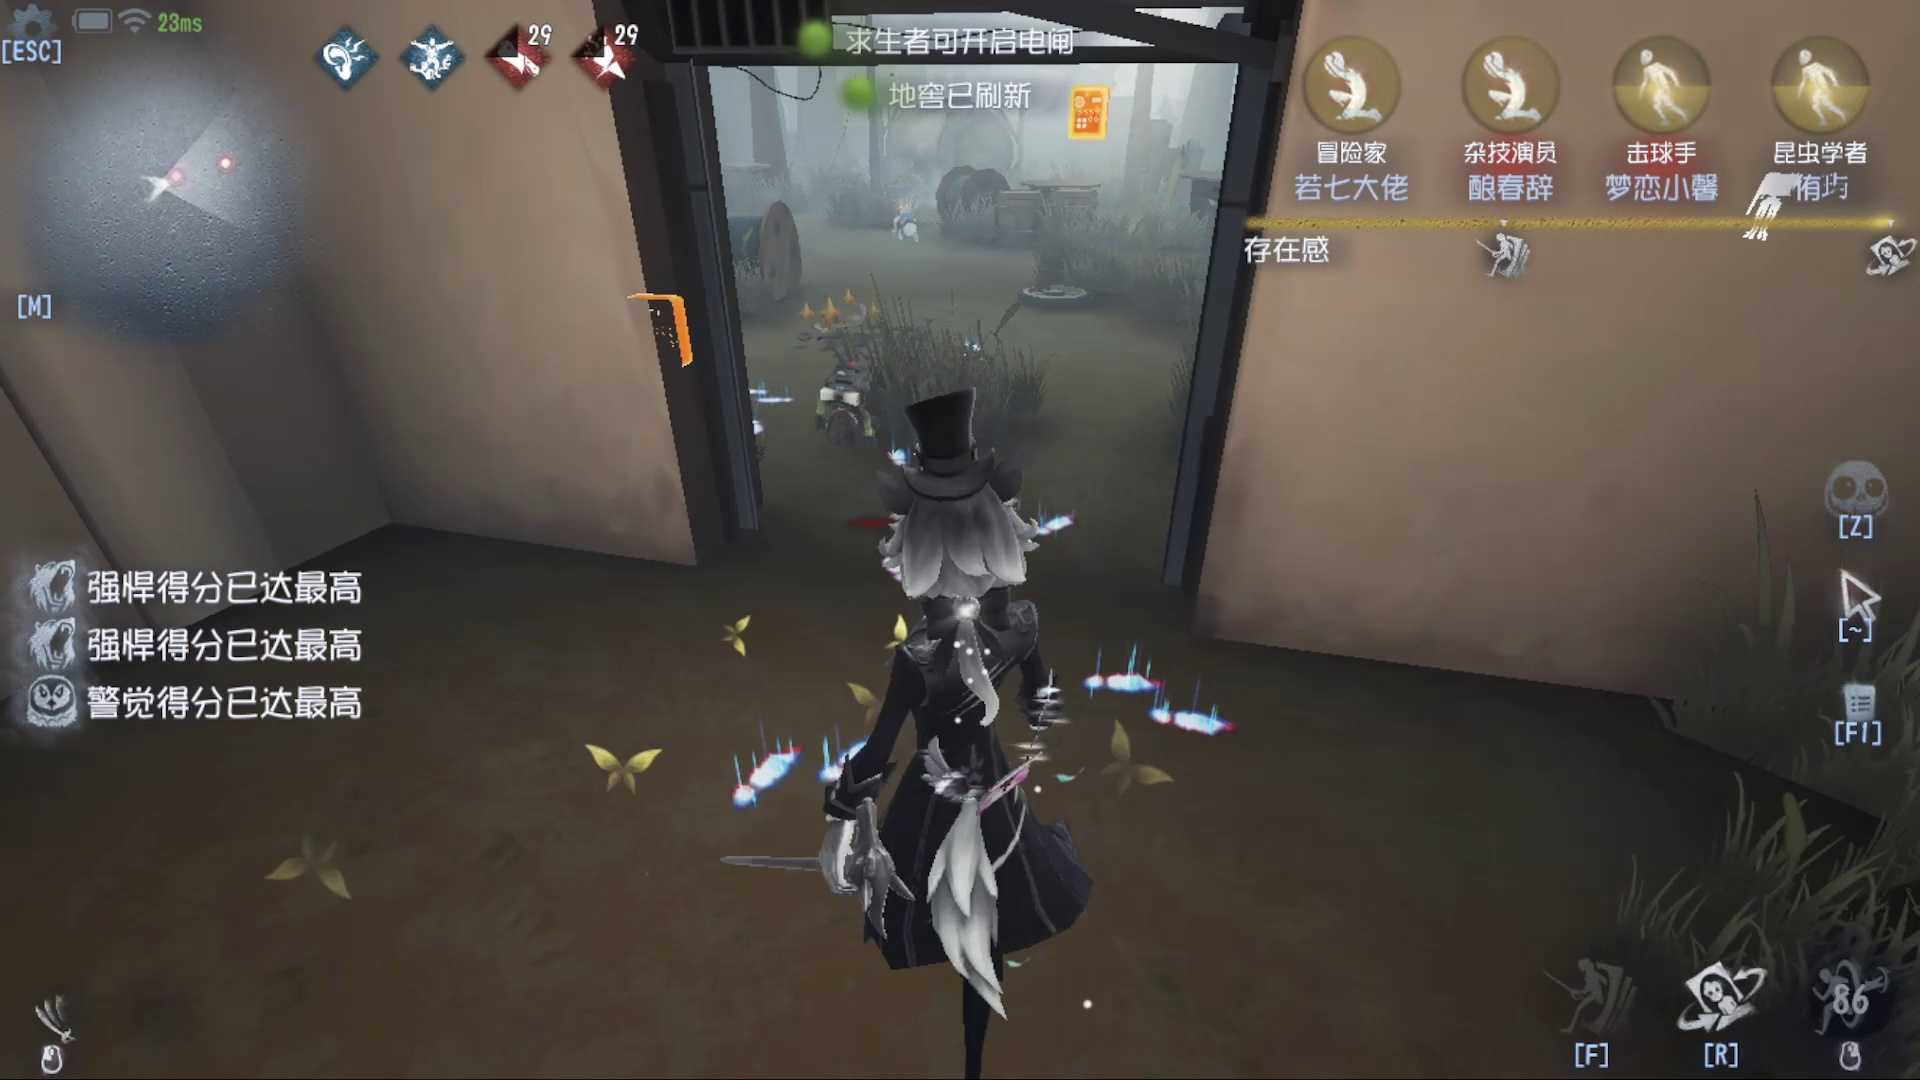求生者: (802, 345, 891, 462), (880, 193, 943, 260)
